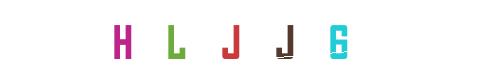6: (298, 0, 378, 80)
H: (126, 0, 206, 80)
J: (208, 0, 288, 80), (247, 0, 327, 80)
L: (139, 0, 219, 80)
